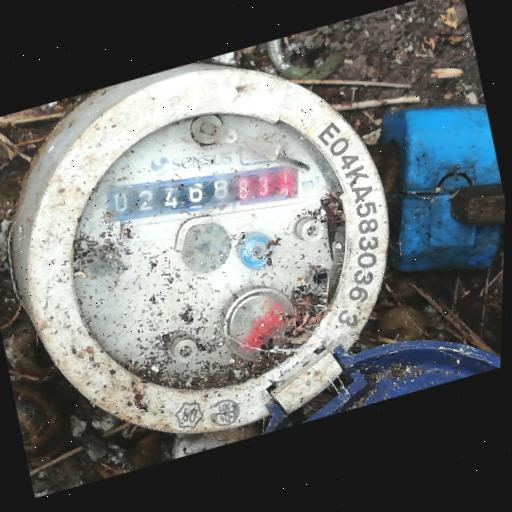0: (106, 187, 136, 220)
1: (274, 166, 301, 202)
2: (131, 184, 160, 217)
3: (253, 169, 278, 201)
4: (157, 181, 185, 214)
6: (182, 178, 209, 211)
8: (207, 174, 235, 206), (233, 172, 258, 203)
border_water_meter_number: (99, 134, 306, 249)
